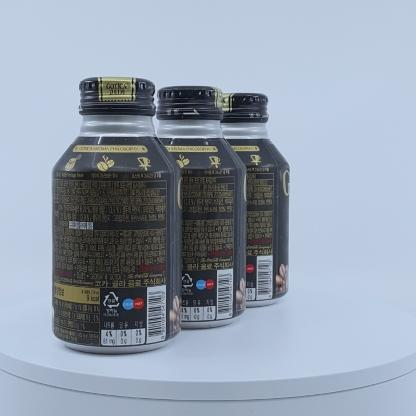---------------270ML: (51, 76, 182, 354), (131, 86, 247, 329)
